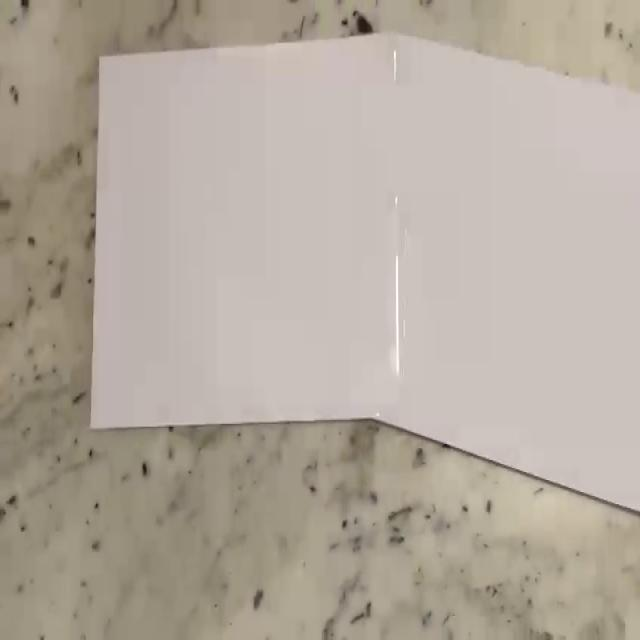road: (90, 32, 640, 512)
